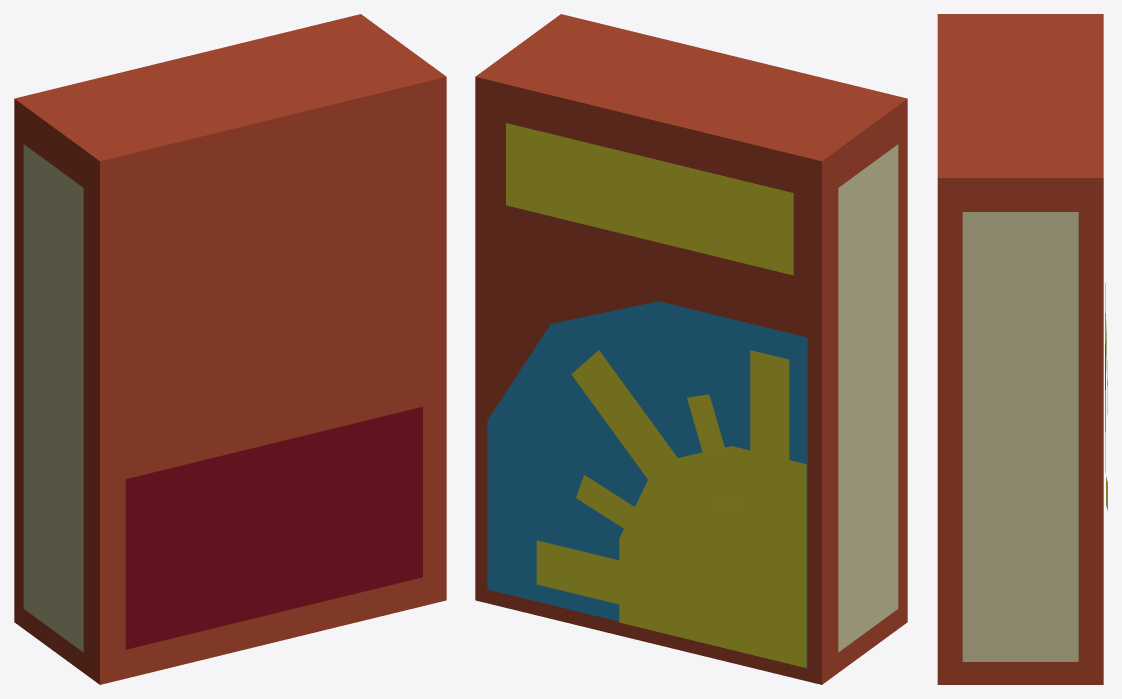
File: 4NoRaisins.fbx
3 renders of one model, left to right at view 1: azimuth 30°, elevation 25°; view 2: azimuth 150°, elevation 25°; view 3: azimuth 270°, elevation 25°, orthographic. The views are drawn at different scales.
Parts seen in each view (by area): view 1: 4NoRaisins; view 2: 4NoRaisins; view 3: 4NoRaisins.
Boxes of the visible parts, box(x1,y1,x2,y2) form: 4NoRaisins: box(14, 14, 446, 684); 4NoRaisins: box(475, 14, 907, 684); 4NoRaisins: box(937, 14, 1107, 684).
Size of the model in its own units: 0.1366 by 0.195 by 0.0599.
